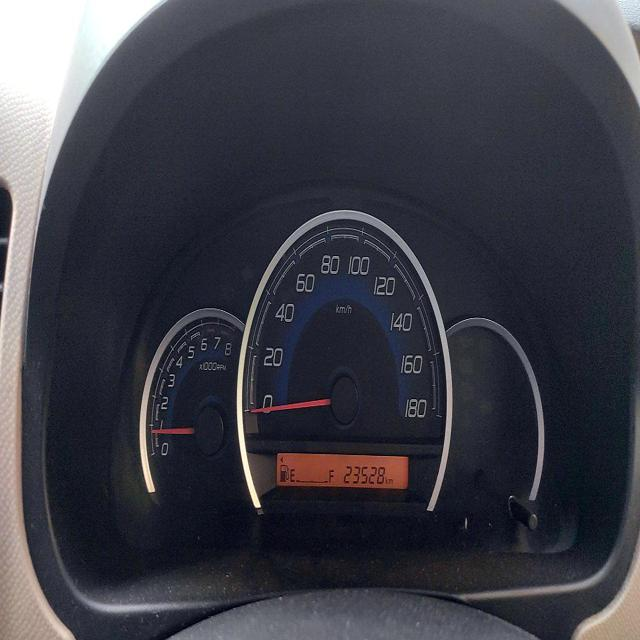odometer: (343, 456, 385, 488)
